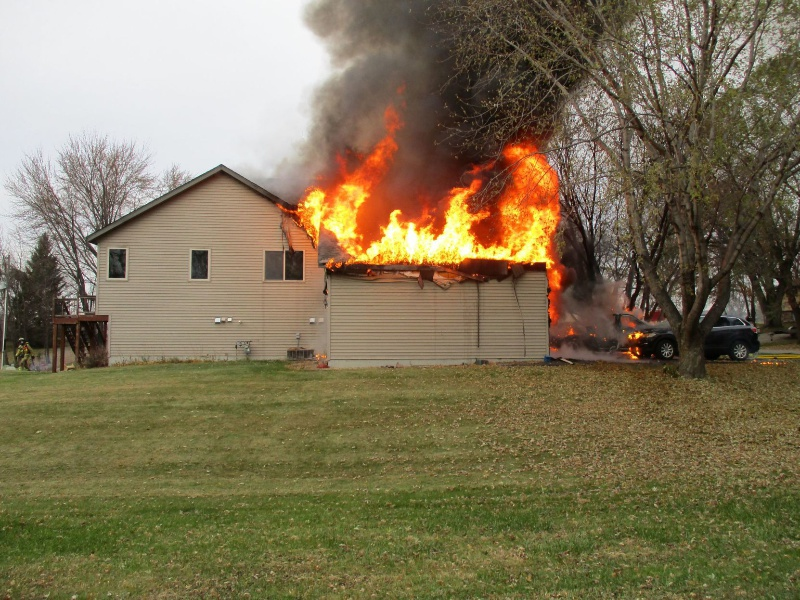fire: (367, 193, 561, 269), (301, 162, 376, 252), (548, 271, 564, 323)
